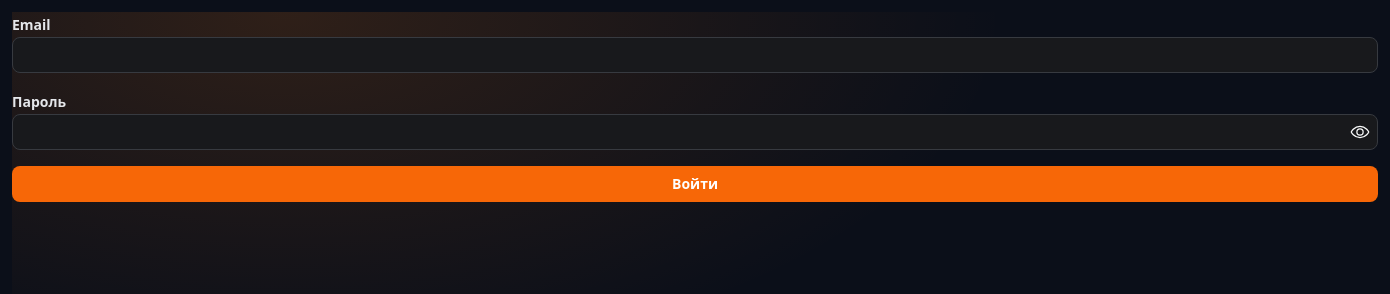
Test case: LoginForm › shows an error on 401
Step 1. Type "user@example.com" into the field labelled "Email" → (695, 55), box [12,37,1378,73]
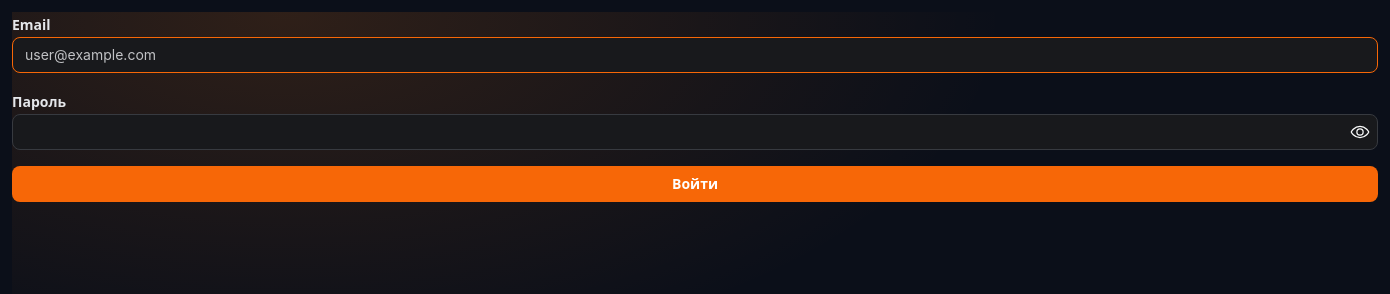
Step 2. Type "wrong" into the password field labelled "Пароль" → (695, 132), box [13,115,1377,149]
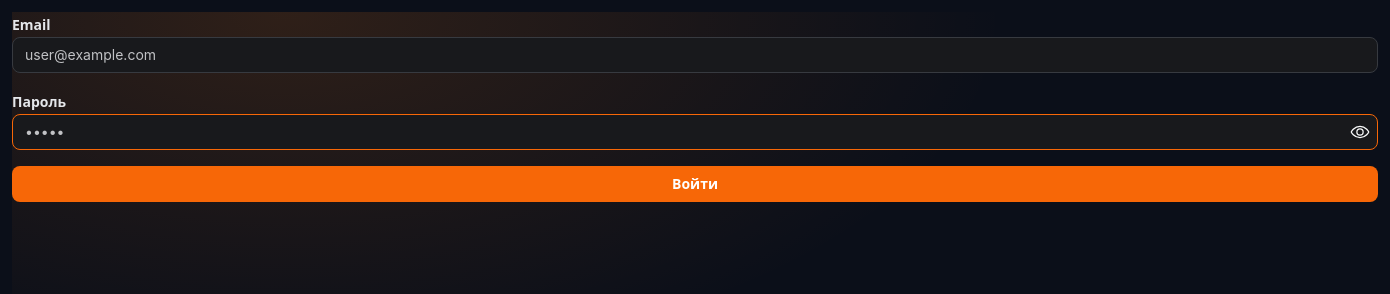
Step 3. Click the button "Войти" → (695, 184), box [12,166,1378,202]
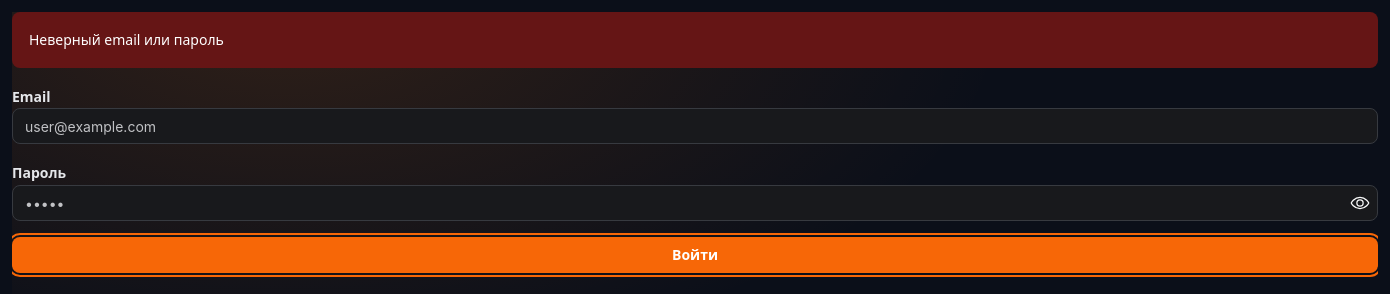
Result: the text "Неверный email или пароль" is shown at [29,30,224,49]
